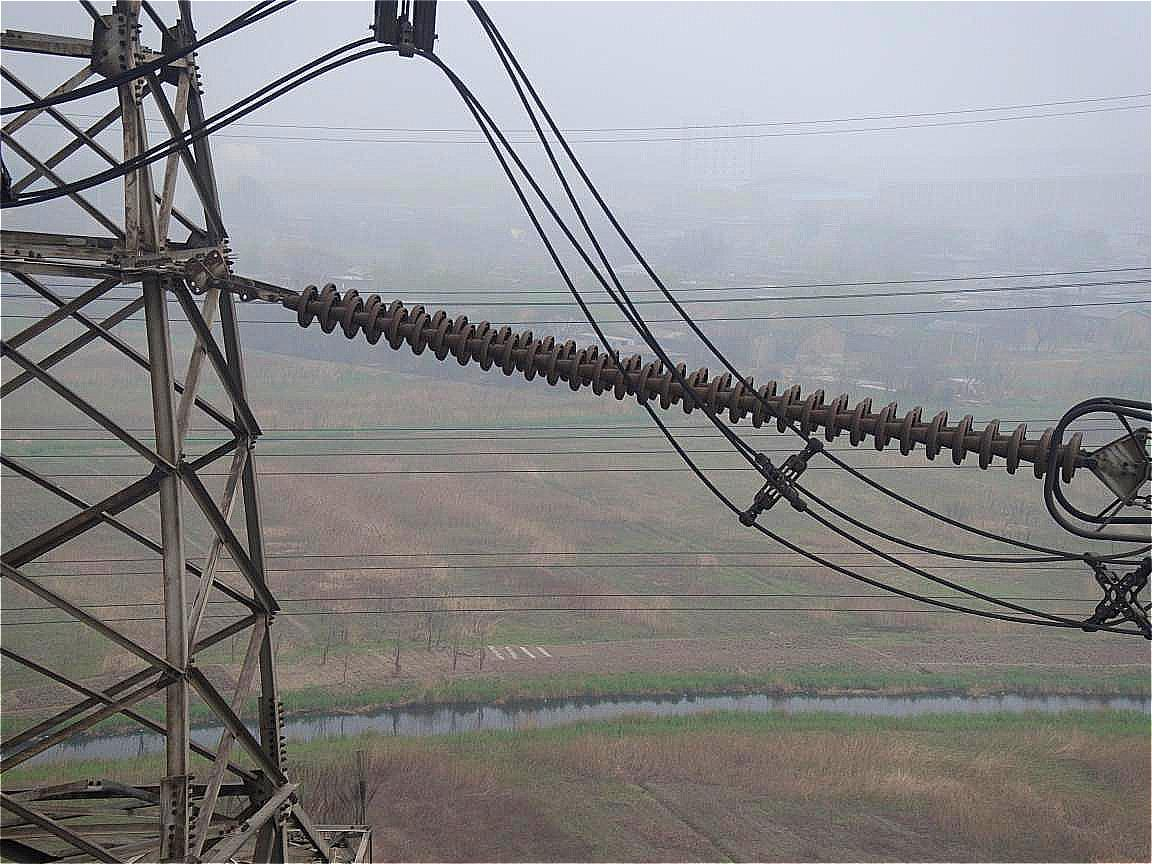insultor1: (264, 255, 1102, 491)
